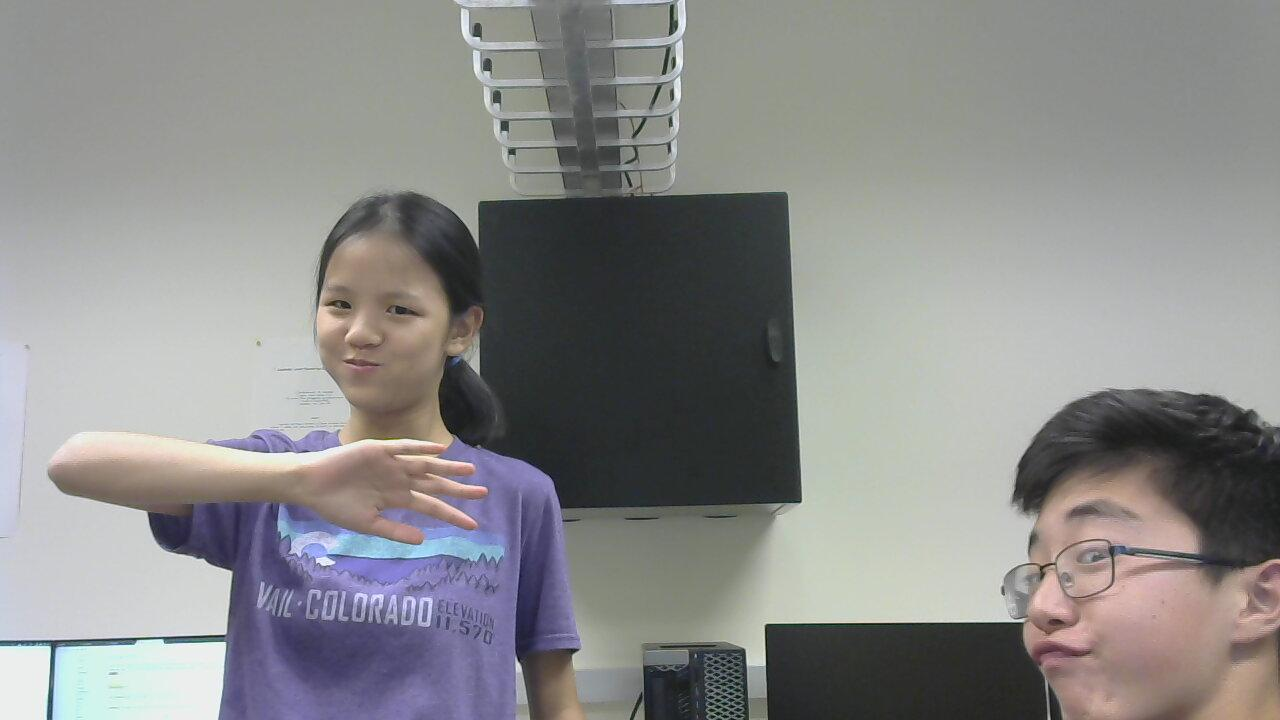hands: (293, 439, 507, 551)
